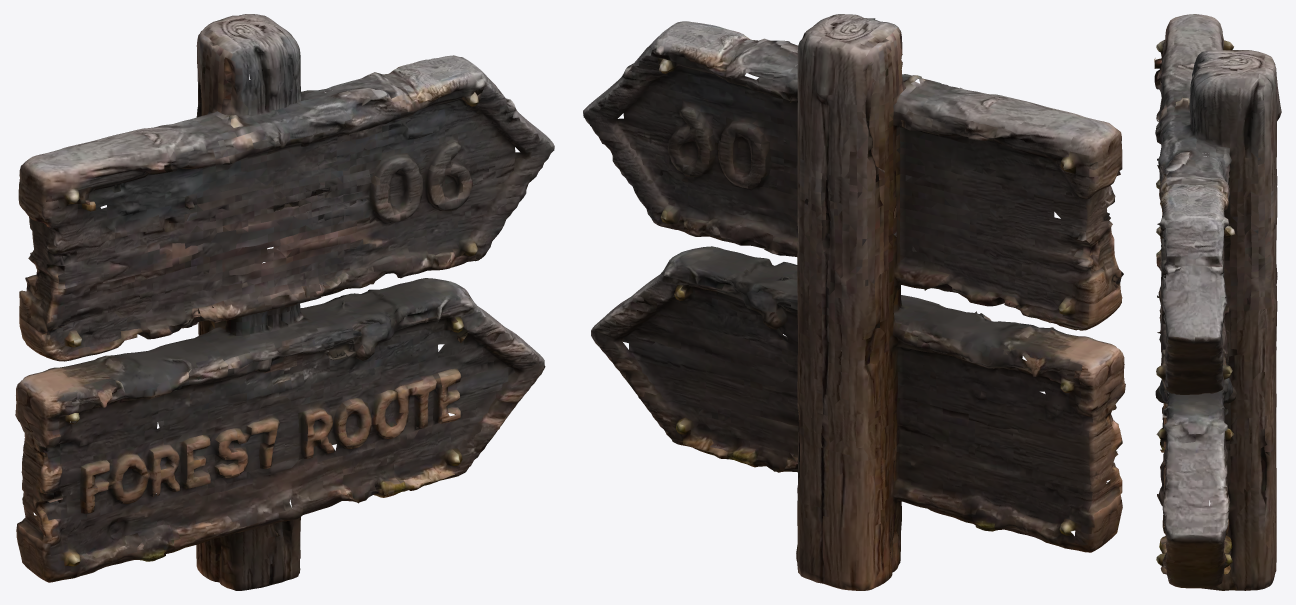
File: signpost.glb
3 views of the same model, side by side, from view 1: azimuth 30°, elevation 25°; view 2: azimuth 150°, elevation 25°; view 3: azimuth 270°, elevation 25° (orthographic). The views are drawn at different scales.
Parts seen in each view (by area): view 1: signpost; view 2: signpost; view 3: signpost.
Boxes of the visible parts, <box> form: signpost: <box>15,14,554,590</box>; signpost: <box>583,14,1125,590</box>; signpost: <box>1154,14,1281,590</box>.
Size of the model in its own units: 0.9794 by 0.9797 by 0.2212.
Materials: 1 (1 with a texture image).
